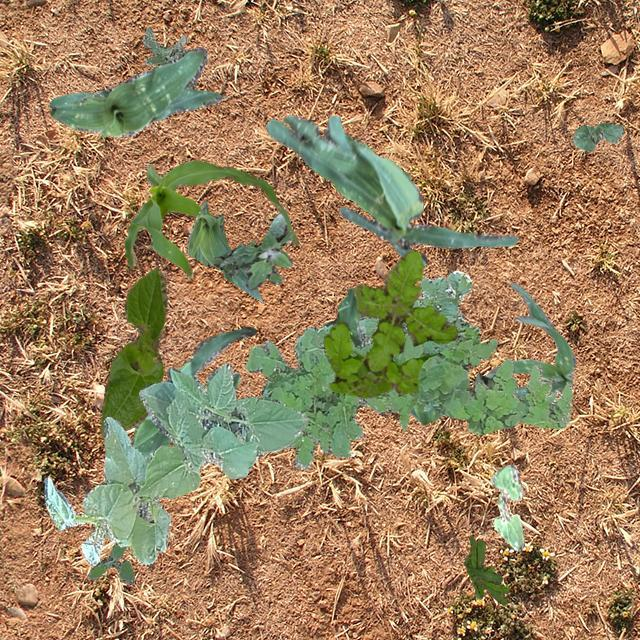crop: (42, 362, 308, 564), (264, 114, 516, 264), (124, 160, 298, 278), (130, 326, 254, 460), (322, 287, 442, 423), (48, 46, 224, 136), (98, 266, 166, 436), (484, 282, 574, 398), (186, 200, 262, 302), (491, 464, 524, 550), (572, 122, 622, 150)
weed: (244, 270, 478, 468), (322, 250, 457, 398), (416, 336, 572, 434), (210, 212, 292, 288), (462, 534, 508, 604), (86, 542, 134, 584), (142, 26, 186, 64), (469, 371, 494, 392)
